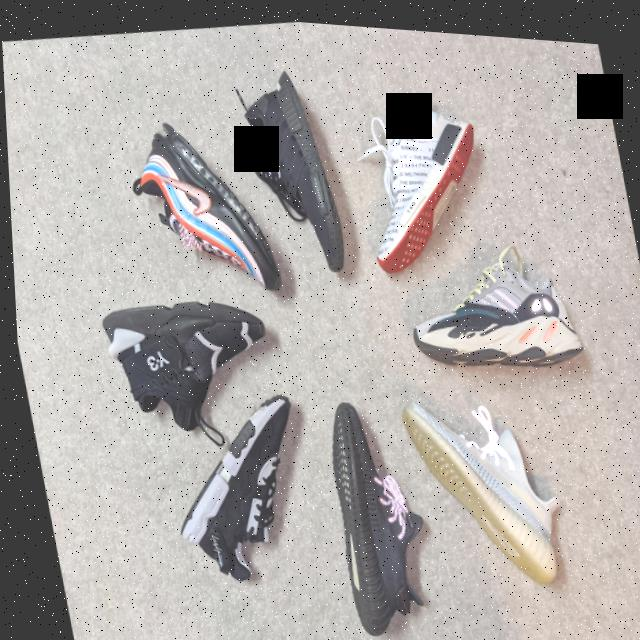shoes: (389, 368, 582, 609), (147, 373, 324, 594), (86, 275, 290, 464), (335, 64, 509, 284), (303, 378, 446, 640), (112, 98, 286, 310), (385, 213, 596, 386), (224, 50, 357, 291)
